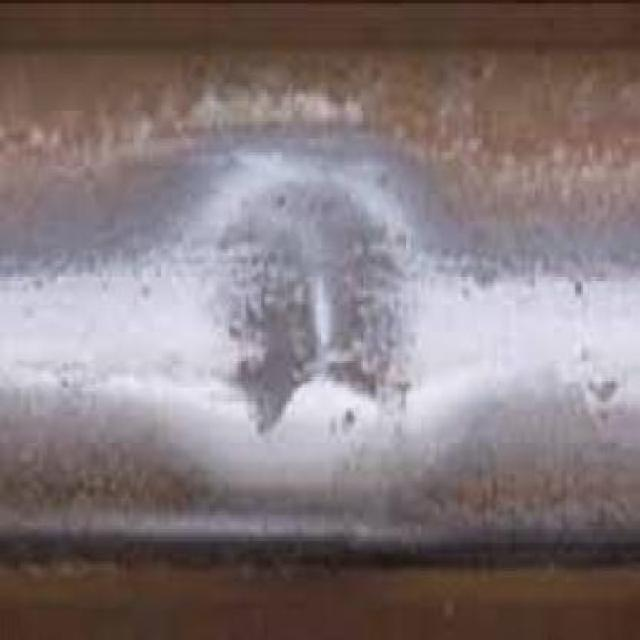defective: (158, 106, 476, 594)
